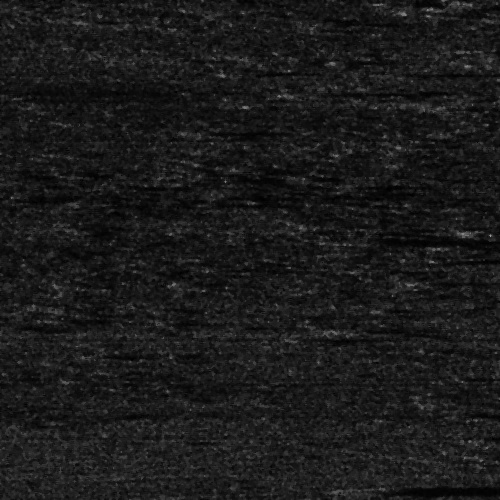object: (241, 88, 356, 97), (169, 126, 222, 135), (363, 482, 374, 491)
shadow: (369, 482, 500, 491), (299, 88, 407, 97), (195, 126, 300, 135), (364, 236, 500, 239)
